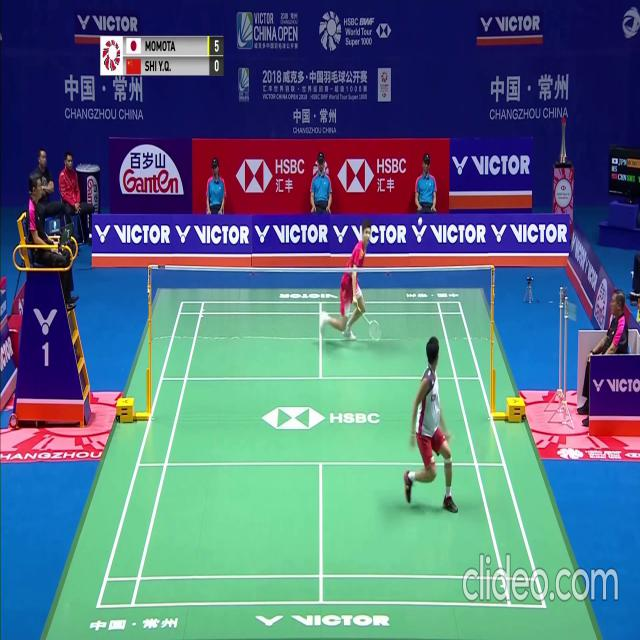Shuttlecock: (418, 218, 423, 226)
